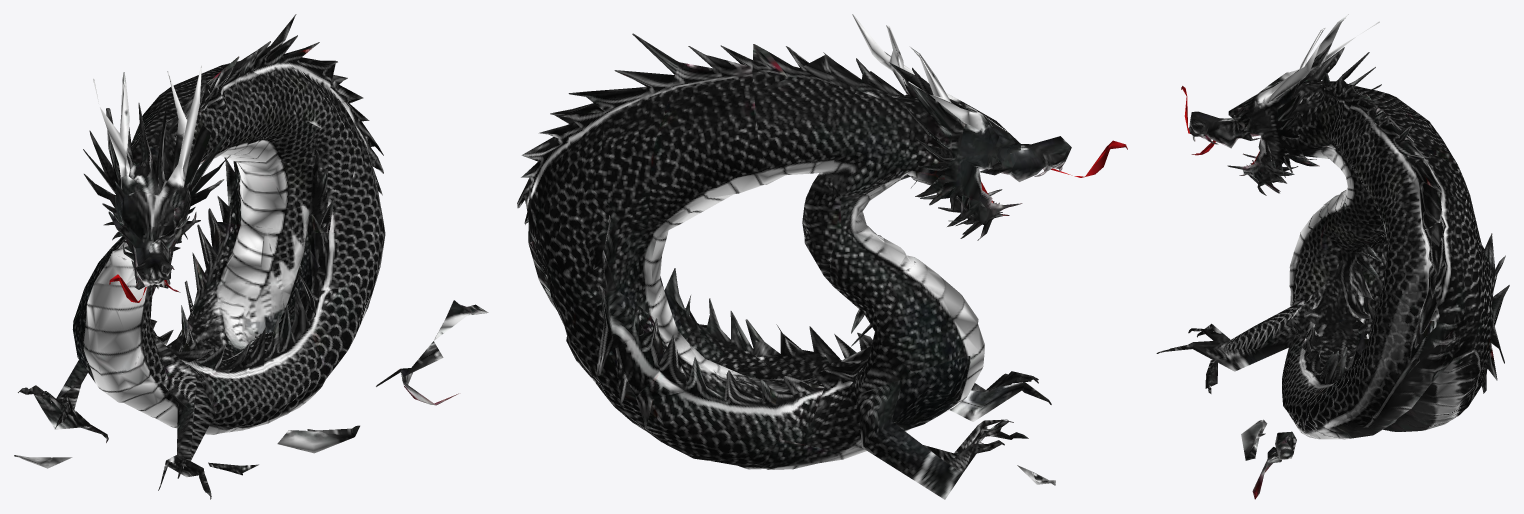
Rendered from dragon.glb.
3 views of the same model, side by side, from view 1: azimuth 30°, elevation 25°; view 2: azimuth 150°, elevation 25°; view 3: azimuth 270°, elevation 25° (orthographic). The views are drawn at different scales.
Bounding box in the file's own units: 1.71 × 1.39 × 1.2.
1 material, 1 textured.
